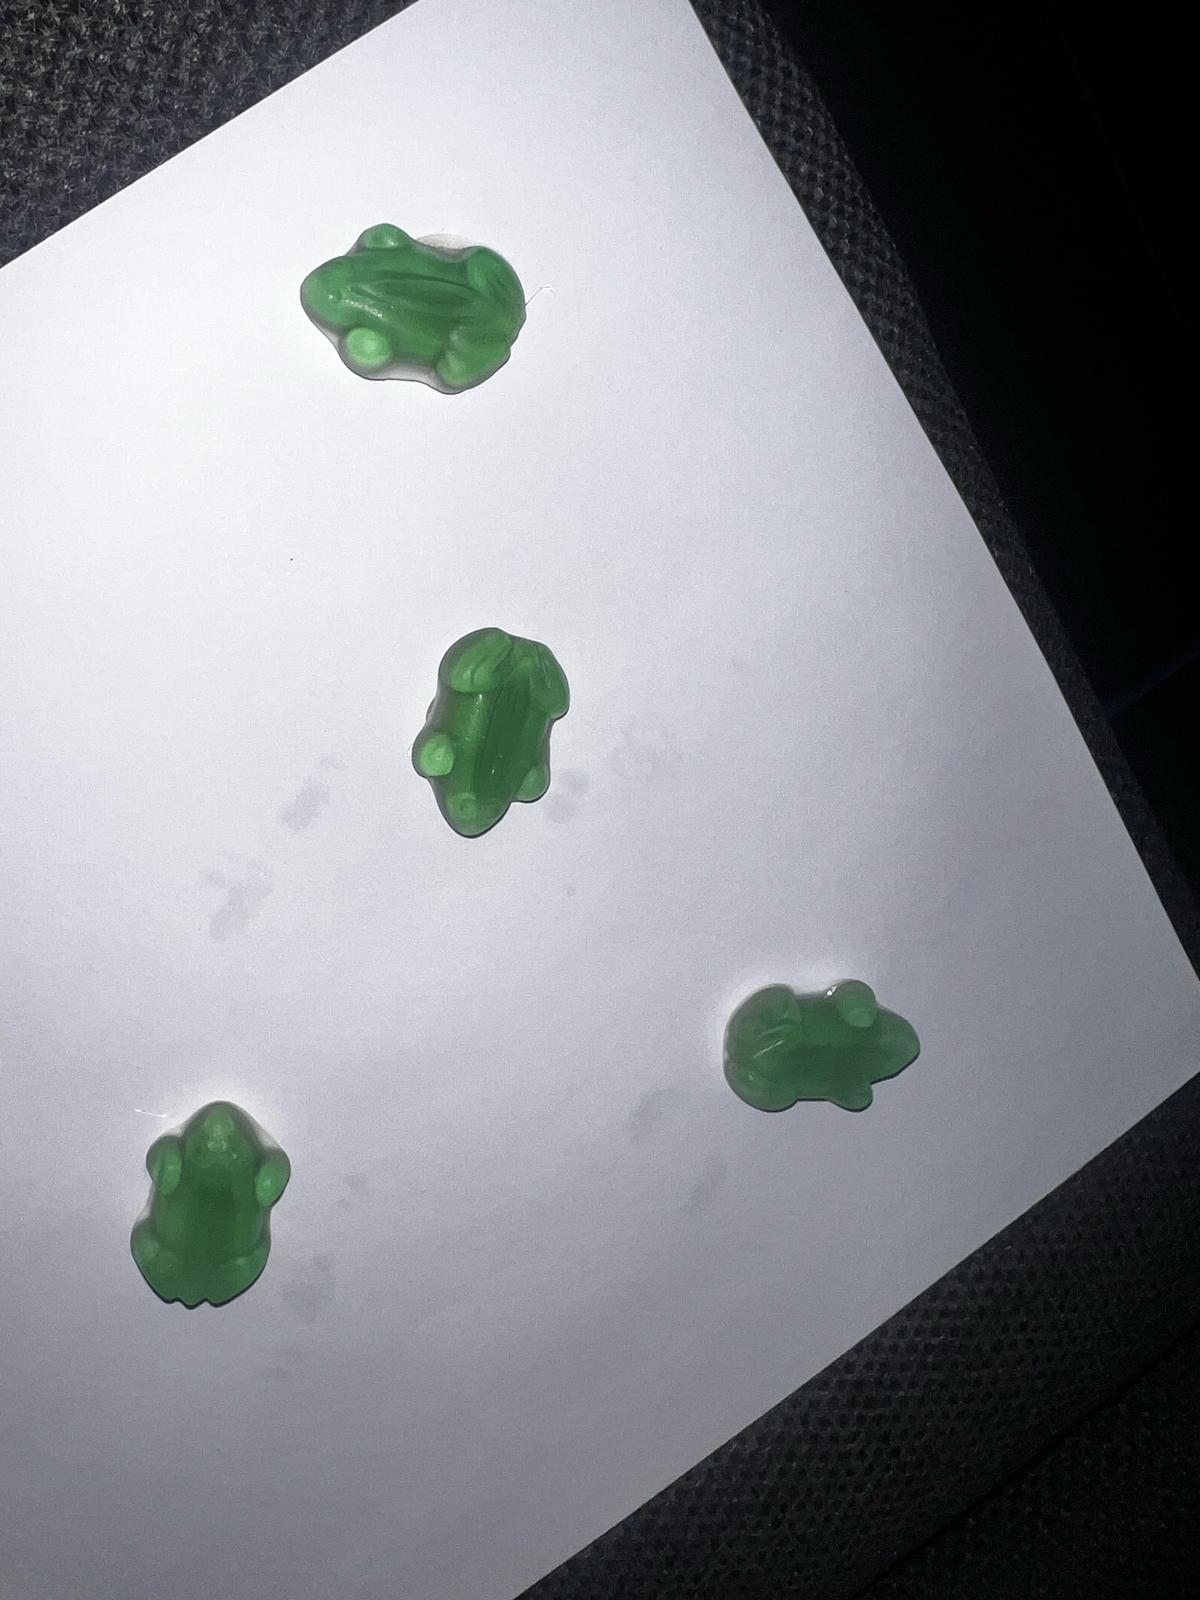frog: (296, 218, 529, 399), (115, 1095, 294, 1315), (405, 624, 575, 843), (721, 974, 925, 1121)
